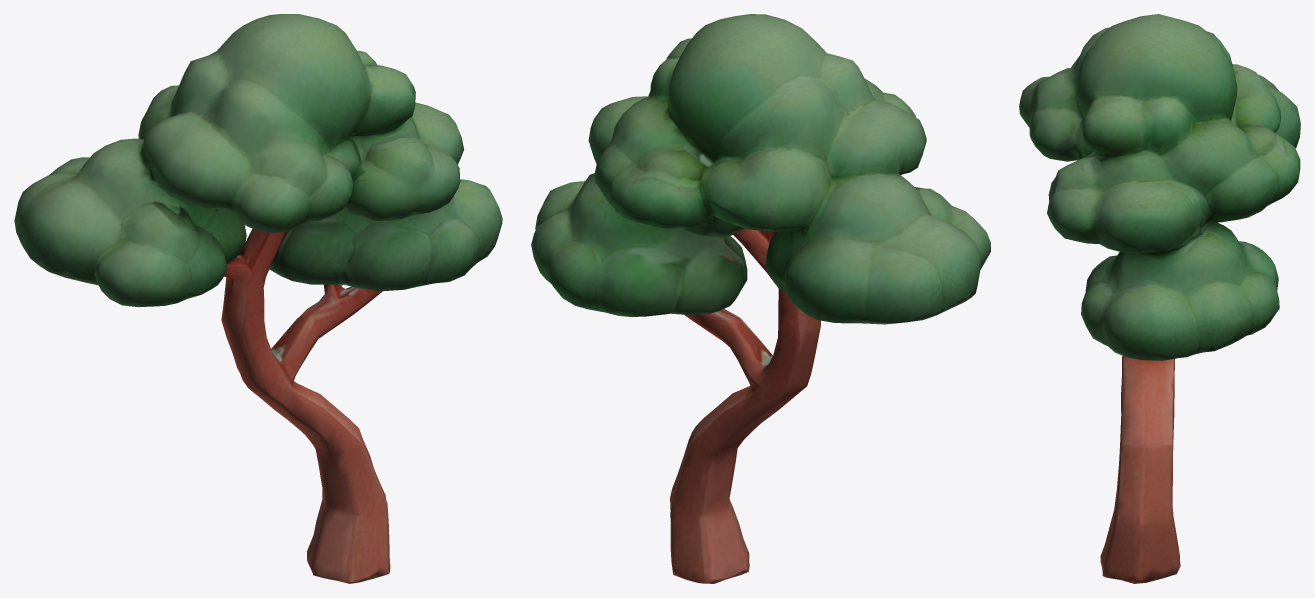
Rendered from Prop_PineTree.glb.
3 views of the same model, side by side, from view 1: azimuth 30°, elevation 25°; view 2: azimuth 150°, elevation 25°; view 3: azimuth 270°, elevation 25° (orthographic). The views are drawn at different scales.
Parts seen in each view (by area): view 1: input; view 2: input; view 3: input.
Part boxes in pixels (left/top/right/bottom): input: left=14, top=14, right=502, bottom=583; input: left=531, top=14, right=990, bottom=583; input: left=1019, top=14, right=1300, bottom=583.
Size of the model in its own units: 0.8403 by 1 by 0.4907.
1 material, 1 textured.
